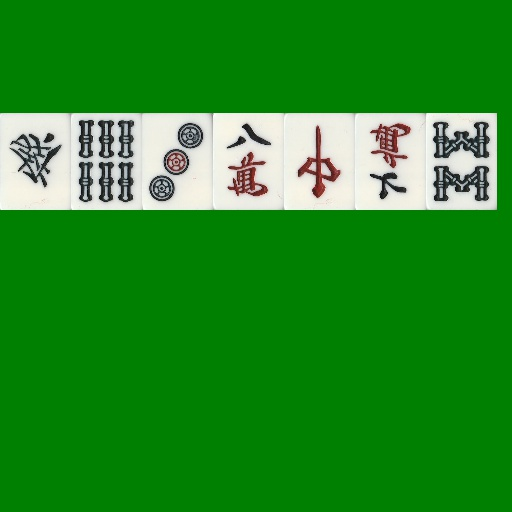3p: (142, 113, 213, 210)
6s: (71, 113, 142, 210)
7m: (355, 113, 426, 210)
8m: (213, 113, 284, 210)
8s: (426, 113, 497, 210)
hatsu: (0, 113, 71, 210)
tyun: (284, 113, 355, 210)
